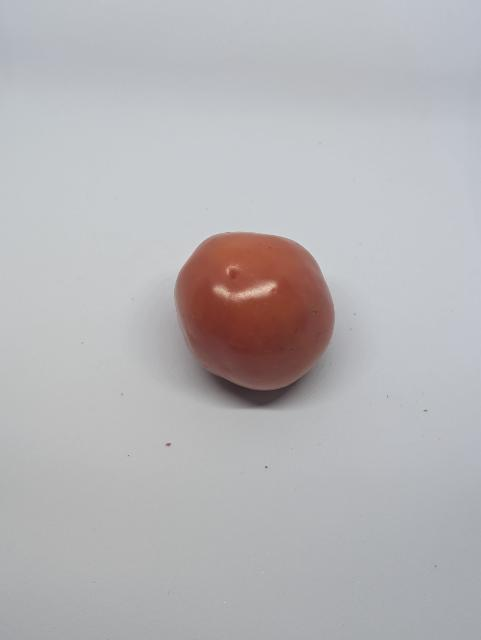red: (151, 212, 361, 416)
